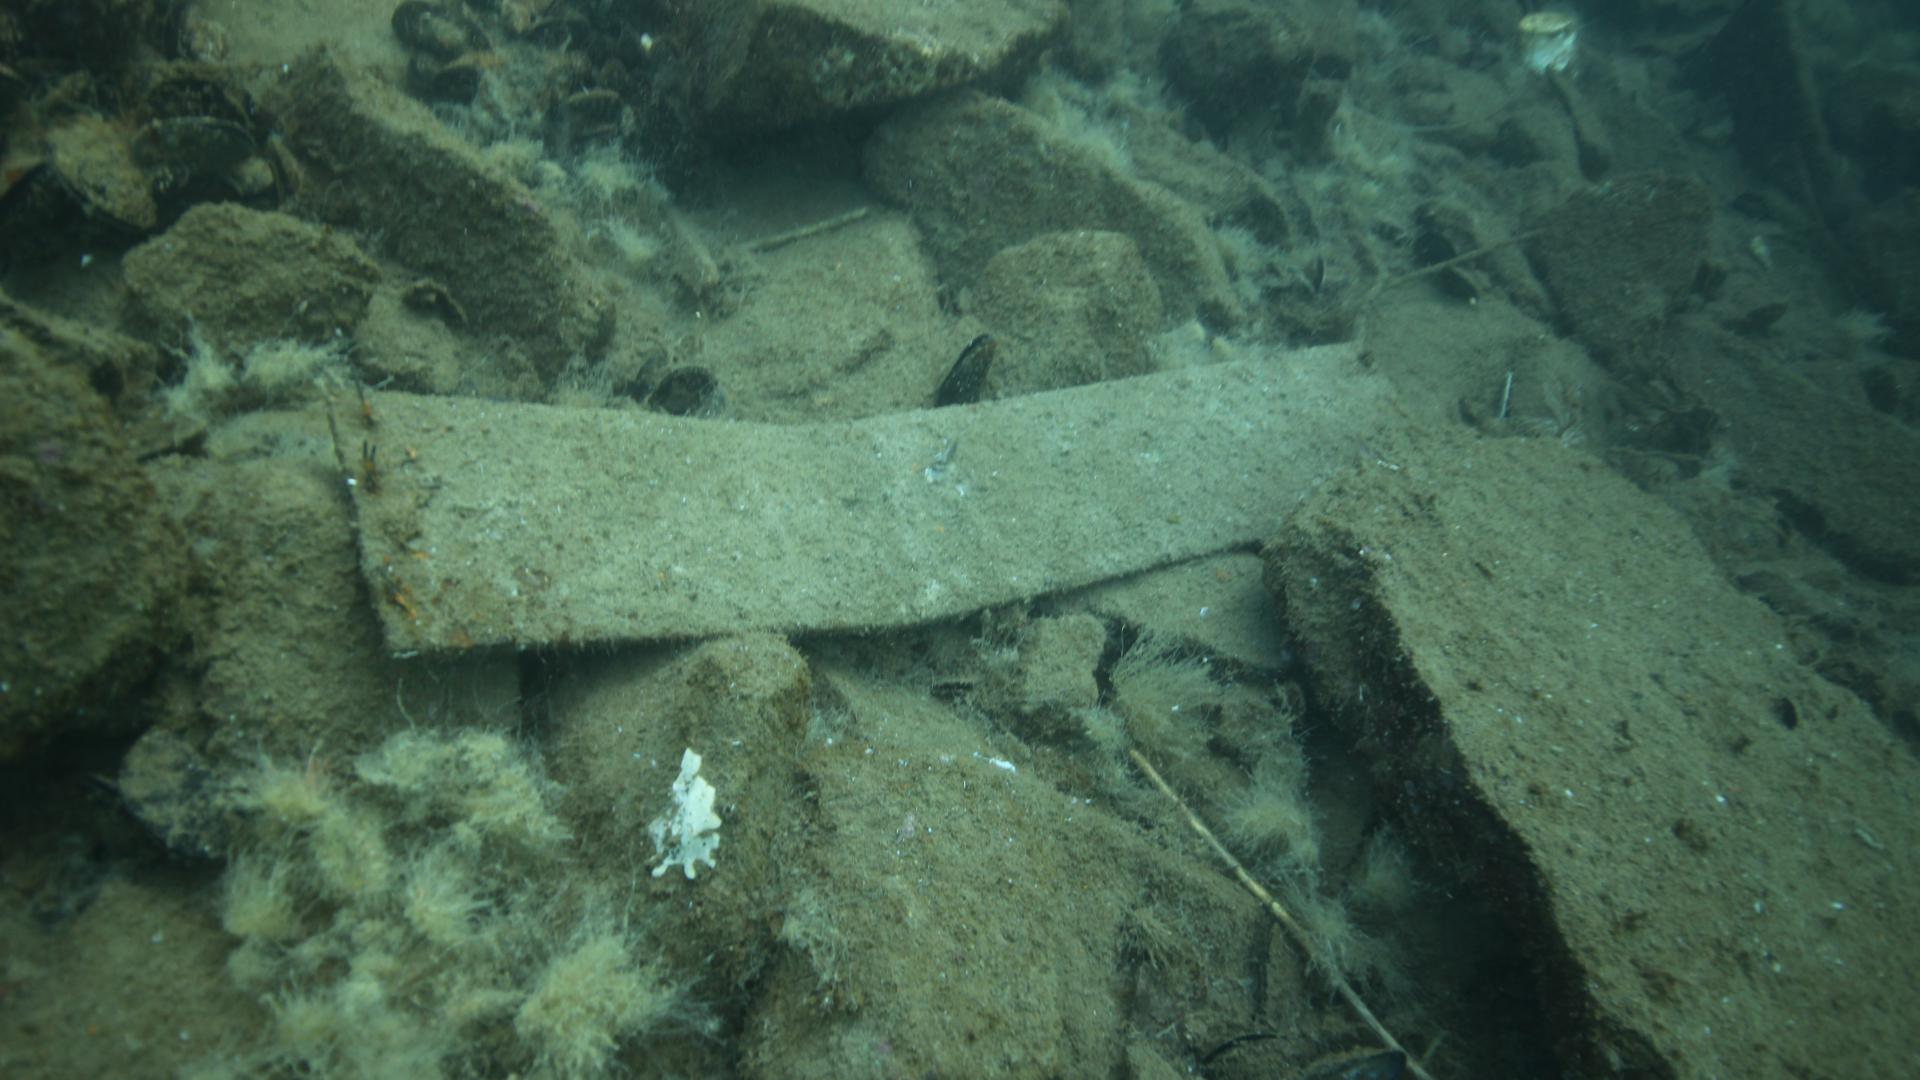wood: (323, 336, 1422, 665)
